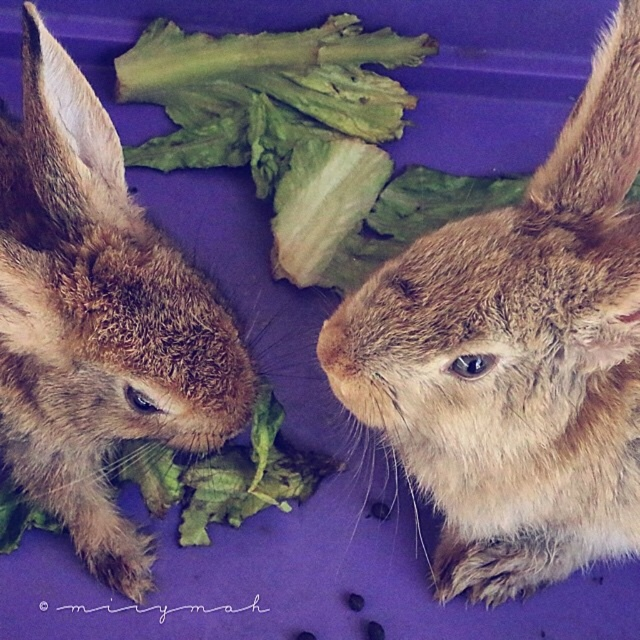Rabbit: (300, 0, 639, 615), (0, 0, 291, 607)
